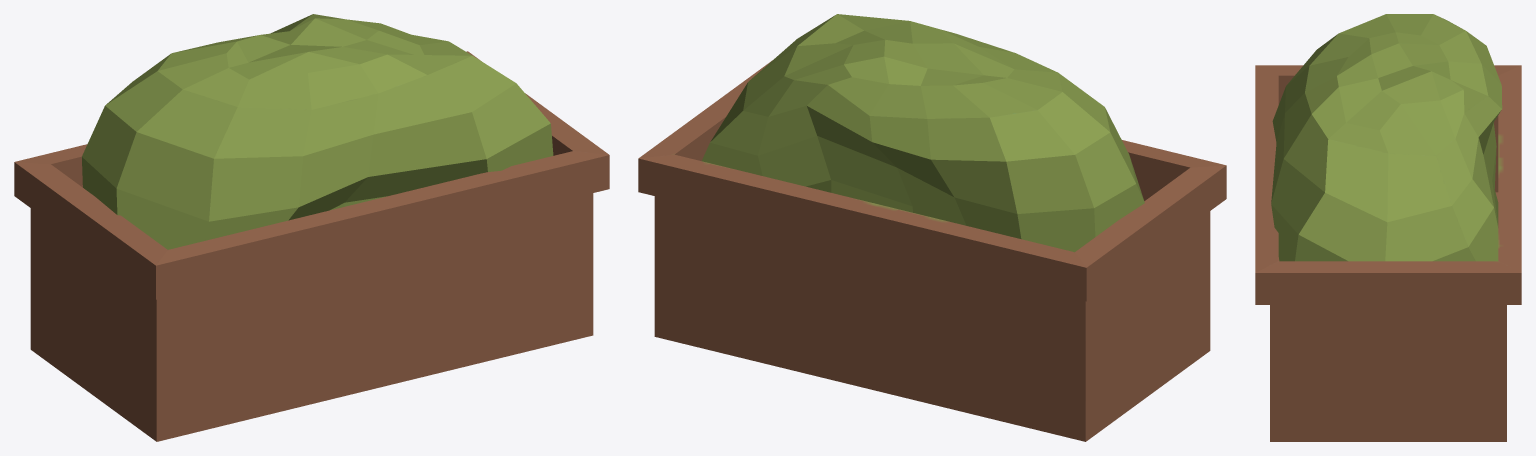
The model's file is PlantPot.fbx.
The picture shows the model from 3 angles, left to right: view 1: azimuth 30°, elevation 25°; view 2: azimuth 150°, elevation 25°; view 3: azimuth 270°, elevation 25°; orthographic projection. The views are drawn at different scales.
Parts seen in each view (by area): view 1: PlantPot; view 2: PlantPot; view 3: PlantPot.
Part boxes in pixels (left/top/right/bottom): PlantPot: left=14, top=14, right=609, bottom=441; PlantPot: left=638, top=14, right=1226, bottom=441; PlantPot: left=1255, top=14, right=1521, bottom=441.
Size of the model in its own units: 1.3 by 0.8273 by 0.7057.
